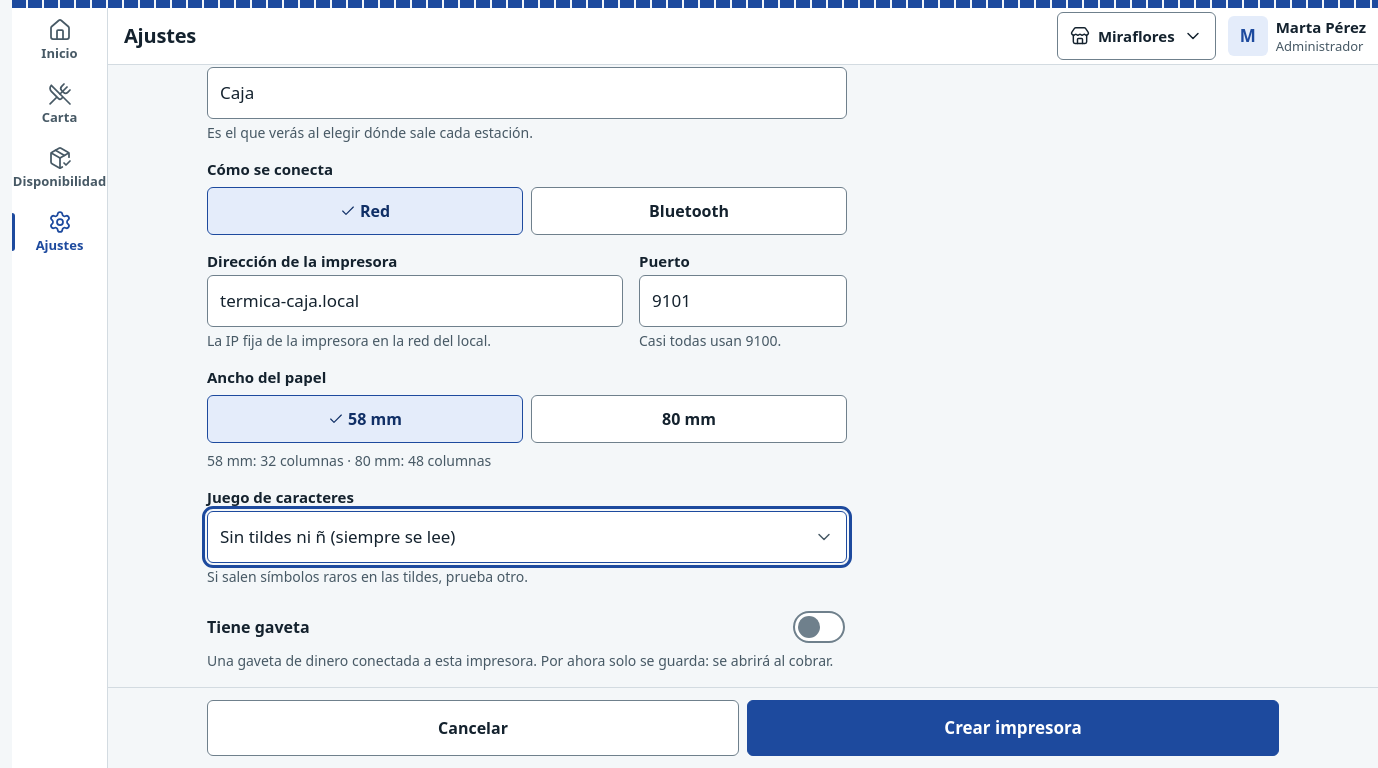
Ajustes › Impresión: crear (criterios 103 y 136) › con 58 mm, otro juego de caracteres y gaveta, manda exactamente eso
Earlier steps of the test are not shown.
(page scrolled)
Click the switch named "Tiene gaveta": [819, 627] box [791,603,847,651]
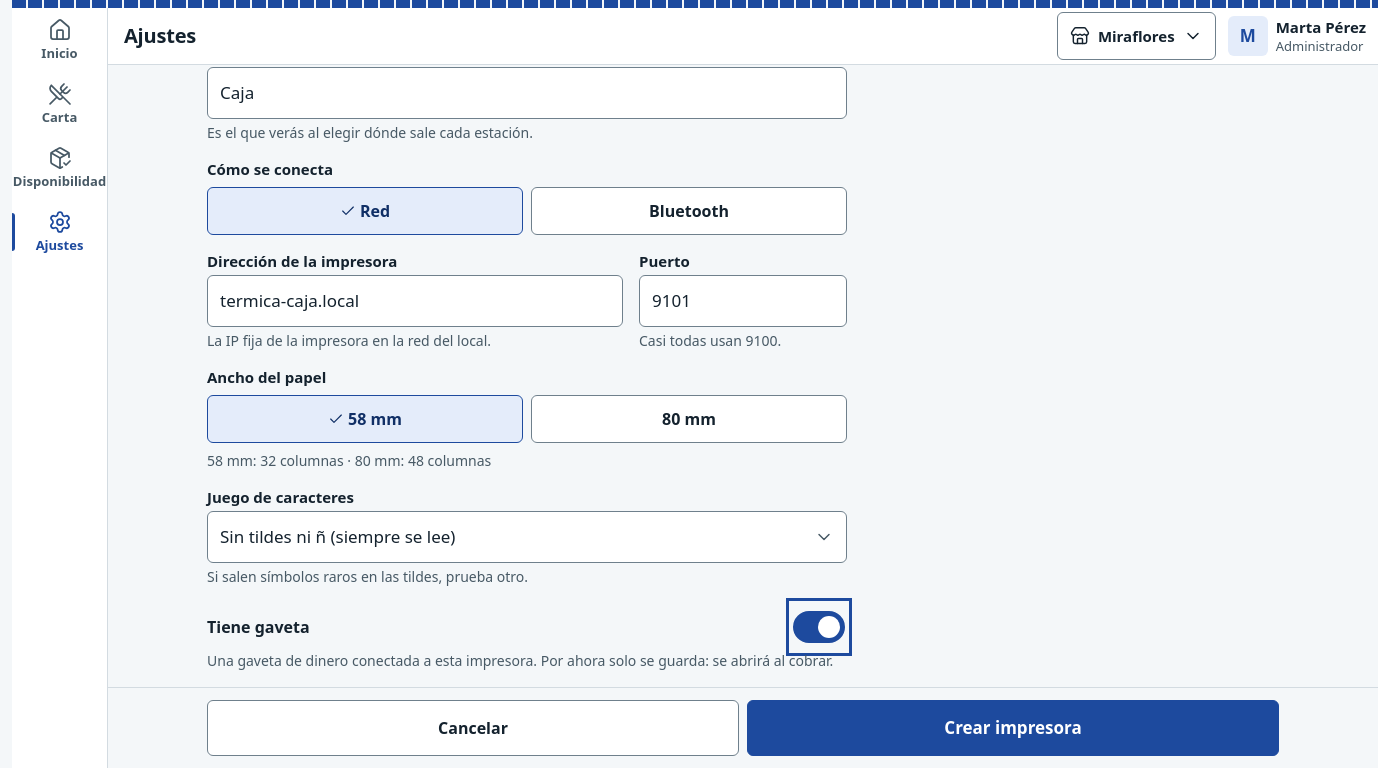
Click the button "Crear impresora": [1013, 728] box [747,700,1279,756]
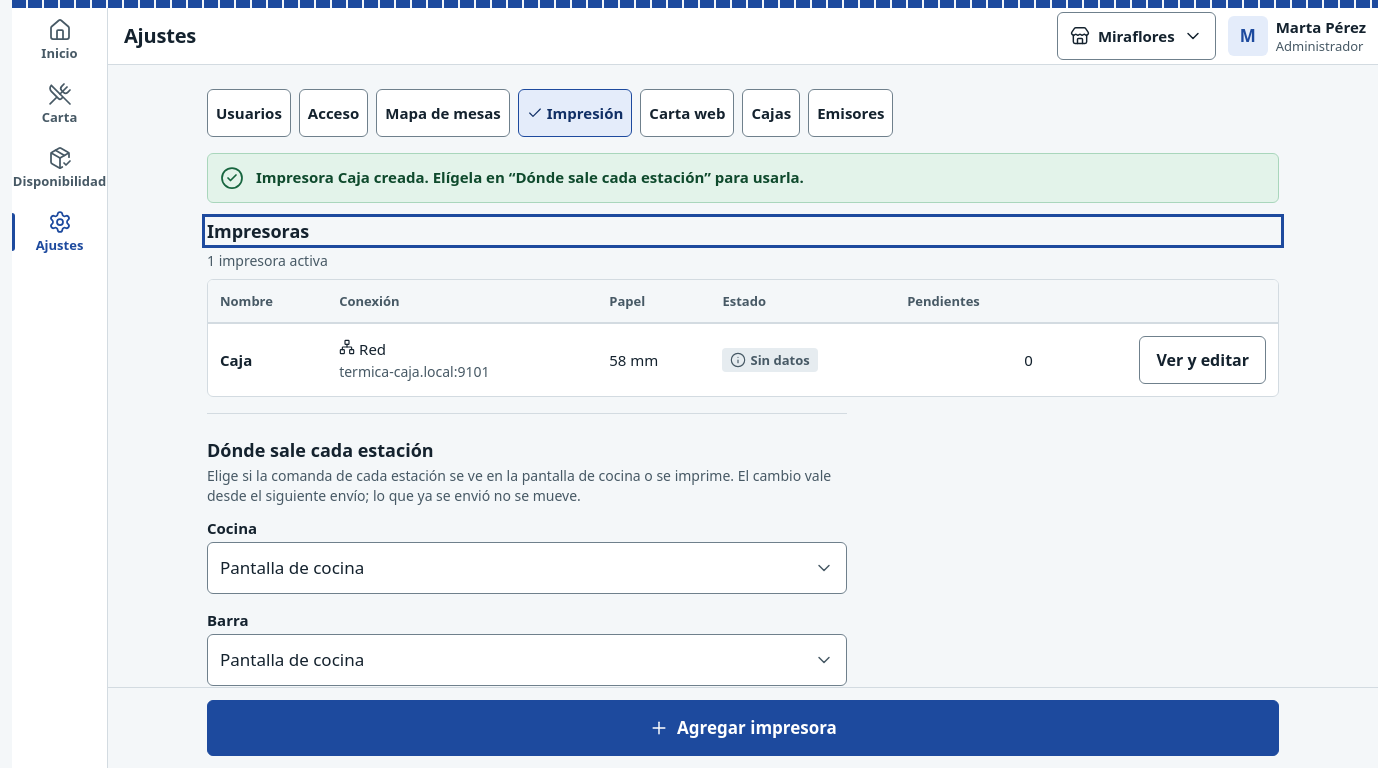
Check: the text "Impresora Caja creada" is shown, box [256,167,804,187]
